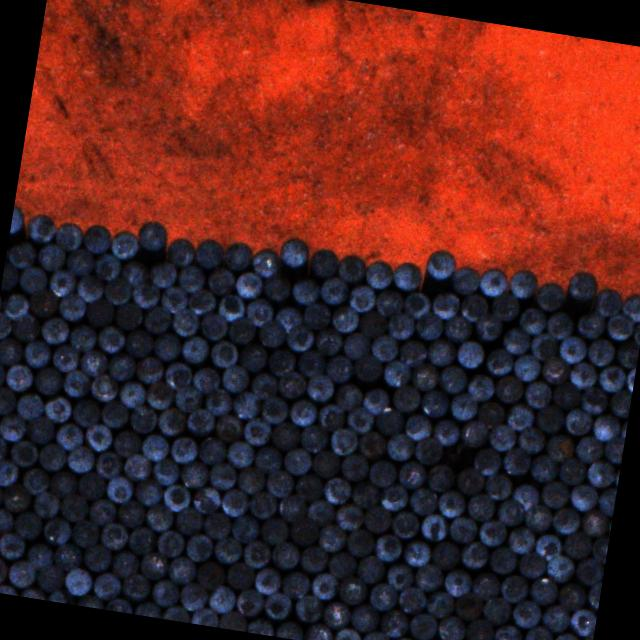tool: (191, 236, 224, 270), (479, 264, 512, 298), (164, 236, 197, 270), (592, 286, 625, 320), (136, 220, 170, 253), (391, 260, 424, 293), (424, 247, 456, 281), (252, 246, 284, 280), (534, 280, 566, 314), (26, 212, 60, 244), (566, 269, 598, 303), (278, 235, 310, 268), (337, 253, 369, 286), (82, 224, 114, 256), (222, 241, 254, 273), (364, 259, 396, 291), (458, 292, 490, 324), (508, 267, 540, 299), (290, 514, 322, 546), (109, 230, 141, 262), (408, 359, 439, 392), (308, 246, 339, 278), (350, 602, 381, 634), (337, 574, 368, 606), (306, 373, 338, 404), (17, 264, 48, 296), (172, 505, 204, 536), (451, 264, 482, 296), (193, 558, 224, 590), (145, 380, 176, 412), (5, 238, 36, 270), (316, 402, 347, 434), (174, 262, 206, 293), (1, 480, 32, 512), (550, 379, 582, 410), (456, 338, 487, 369), (318, 275, 349, 306), (205, 266, 236, 297), (557, 333, 588, 364), (437, 364, 468, 395), (557, 581, 588, 612), (373, 405, 404, 436), (443, 312, 474, 343), (426, 337, 457, 368), (155, 405, 186, 436), (447, 391, 478, 422), (494, 373, 525, 404), (227, 315, 258, 346), (366, 457, 397, 488), (418, 388, 449, 419), (357, 429, 388, 460), (597, 362, 628, 393), (535, 404, 566, 435), (592, 412, 623, 443), (472, 446, 503, 477), (505, 401, 536, 432), (510, 598, 540, 630), (240, 538, 270, 570), (40, 314, 70, 346), (270, 540, 300, 572), (320, 474, 350, 506), (36, 240, 66, 272), (499, 572, 529, 604), (432, 288, 462, 320), (150, 576, 180, 608), (322, 598, 352, 630), (176, 460, 208, 490), (42, 514, 72, 546), (54, 221, 84, 253), (584, 458, 616, 488), (190, 484, 222, 514), (346, 282, 376, 314), (33, 364, 63, 396), (452, 589, 482, 621), (518, 304, 548, 336), (282, 444, 312, 476), (574, 558, 606, 588), (316, 522, 346, 554), (362, 502, 392, 534), (362, 384, 392, 416), (282, 568, 312, 600), (216, 292, 246, 324), (70, 398, 102, 428), (288, 274, 320, 304), (540, 354, 570, 386), (0, 290, 30, 322), (168, 434, 198, 465), (178, 581, 208, 612), (184, 533, 214, 564), (373, 532, 403, 563), (204, 386, 234, 417), (264, 468, 294, 499), (166, 553, 196, 584), (436, 487, 466, 518), (529, 330, 560, 360), (25, 415, 55, 446), (378, 481, 408, 512), (138, 549, 168, 580), (242, 415, 272, 446), (64, 565, 94, 596), (179, 332, 209, 363), (161, 360, 192, 390), (470, 569, 500, 600), (480, 594, 510, 625), (95, 323, 125, 354), (287, 396, 318, 426), (308, 569, 338, 600), (46, 268, 77, 298), (384, 432, 414, 463), (120, 571, 150, 602), (456, 466, 486, 497), (36, 441, 66, 472), (160, 481, 190, 512), (143, 500, 173, 531), (246, 297, 276, 328), (128, 404, 158, 435), (478, 518, 509, 548), (4, 362, 34, 393), (171, 384, 202, 414), (344, 527, 374, 558), (230, 513, 260, 544), (234, 586, 264, 617), (314, 325, 344, 356), (89, 372, 119, 403), (195, 435, 225, 466), (50, 342, 80, 373), (397, 460, 427, 491), (170, 308, 200, 339), (406, 609, 436, 640), (561, 528, 591, 559), (396, 585, 426, 616), (466, 491, 496, 522), (424, 462, 454, 493), (277, 493, 308, 523), (65, 246, 95, 277), (66, 444, 96, 475), (585, 336, 615, 367), (100, 398, 130, 429), (568, 605, 598, 636), (152, 331, 182, 362), (220, 363, 250, 394), (234, 270, 264, 301), (522, 501, 552, 532), (236, 465, 266, 496), (112, 301, 142, 332), (61, 368, 91, 399), (51, 542, 81, 573), (487, 422, 518, 452), (198, 312, 228, 343), (442, 567, 472, 598), (297, 424, 327, 455), (160, 283, 190, 314), (123, 328, 153, 359), (8, 437, 38, 468), (382, 357, 412, 388), (69, 323, 99, 354), (218, 486, 248, 517), (412, 310, 443, 340), (232, 390, 262, 421), (140, 430, 170, 461), (428, 540, 458, 571), (142, 304, 172, 335), (574, 434, 604, 465), (326, 549, 357, 579), (74, 471, 104, 502), (546, 310, 576, 341), (296, 348, 327, 378), (580, 507, 611, 537), (512, 351, 542, 382), (326, 352, 356, 383), (544, 553, 574, 584), (484, 347, 514, 378), (94, 251, 124, 282), (28, 287, 58, 318), (84, 297, 114, 328), (568, 360, 599, 390), (354, 352, 385, 382), (190, 366, 221, 396), (270, 422, 301, 452), (258, 318, 288, 349), (578, 385, 608, 416), (276, 368, 306, 399), (576, 308, 606, 339), (259, 395, 289, 426), (266, 346, 296, 377), (213, 412, 244, 442), (502, 445, 532, 476), (528, 452, 558, 483), (544, 432, 574, 463), (475, 400, 506, 430), (474, 311, 504, 342), (356, 552, 385, 584), (98, 522, 128, 552), (226, 438, 256, 468), (414, 436, 444, 466), (385, 311, 415, 341), (460, 540, 490, 570), (226, 559, 256, 589), (391, 384, 421, 414), (206, 584, 236, 614), (488, 546, 518, 576), (368, 333, 398, 363), (390, 510, 420, 540), (448, 514, 478, 544), (10, 312, 40, 342), (30, 490, 60, 520), (79, 346, 109, 376), (285, 322, 315, 352), (82, 422, 112, 452), (412, 562, 442, 592), (127, 526, 157, 556), (68, 518, 98, 548), (552, 504, 582, 534), (408, 486, 438, 516), (104, 473, 134, 503), (529, 576, 559, 606), (212, 536, 242, 566), (59, 492, 89, 522), (246, 488, 276, 518), (263, 590, 293, 620), (425, 590, 455, 620), (568, 482, 598, 512), (200, 510, 230, 540), (115, 498, 145, 528), (334, 502, 364, 532), (54, 420, 84, 450), (310, 448, 340, 478), (340, 332, 370, 362), (124, 452, 154, 482), (82, 542, 112, 572), (378, 608, 408, 638), (328, 426, 358, 456), (41, 395, 71, 425), (258, 516, 288, 546), (7, 558, 37, 588), (484, 472, 514, 502), (459, 417, 489, 447), (74, 275, 104, 305), (540, 480, 570, 510), (306, 498, 336, 528), (88, 496, 118, 526), (402, 288, 432, 318), (540, 604, 570, 634), (92, 570, 122, 600), (358, 310, 388, 340), (103, 276, 133, 306), (301, 302, 331, 332), (503, 325, 533, 355), (14, 509, 44, 539), (135, 355, 165, 385), (133, 478, 163, 508), (558, 457, 588, 487), (404, 413, 434, 443), (606, 312, 636, 342), (300, 542, 330, 572), (563, 408, 593, 438), (252, 444, 282, 474), (110, 550, 140, 580), (330, 304, 360, 334), (340, 452, 370, 482), (334, 382, 364, 412), (466, 372, 496, 402), (344, 404, 374, 434), (47, 468, 77, 498), (147, 258, 177, 288), (402, 538, 432, 568), (490, 292, 520, 322), (112, 428, 142, 458), (522, 378, 552, 408), (515, 426, 545, 456), (14, 392, 44, 422), (36, 562, 66, 592), (210, 338, 240, 368), (240, 342, 270, 372), (375, 286, 405, 316), (347, 480, 377, 510), (430, 416, 460, 446), (398, 338, 428, 368), (512, 482, 542, 512), (292, 472, 322, 502), (186, 287, 216, 317), (186, 406, 216, 436), (274, 303, 304, 333), (296, 592, 324, 624), (208, 462, 237, 492), (21, 338, 50, 368), (518, 550, 547, 580), (369, 581, 398, 611), (107, 352, 136, 382), (150, 458, 179, 488), (95, 450, 124, 480), (419, 512, 448, 542), (25, 540, 54, 570), (250, 371, 279, 401), (496, 496, 525, 526), (263, 273, 293, 302), (118, 378, 146, 409), (254, 566, 282, 596), (435, 612, 465, 640), (156, 528, 184, 558), (58, 292, 86, 322), (508, 526, 536, 556), (22, 467, 50, 497), (130, 280, 160, 308), (386, 562, 414, 592), (534, 532, 562, 562), (118, 258, 148, 286), (0, 411, 27, 442), (0, 531, 26, 561), (608, 387, 633, 418), (0, 335, 24, 366), (615, 338, 640, 367), (464, 616, 494, 640), (218, 608, 248, 632), (603, 434, 625, 464), (190, 606, 220, 627), (598, 485, 618, 516), (275, 619, 304, 640), (621, 291, 640, 323), (0, 458, 20, 488), (590, 534, 610, 564), (303, 620, 332, 640), (10, 204, 27, 237), (162, 603, 190, 623), (0, 386, 18, 417), (1, 262, 19, 292), (248, 617, 276, 636), (525, 623, 555, 640), (492, 623, 522, 640), (134, 600, 162, 618), (586, 580, 602, 610), (106, 597, 134, 614), (48, 588, 76, 605), (78, 592, 104, 610), (332, 626, 362, 640), (0, 506, 14, 536), (0, 311, 13, 341), (19, 586, 46, 600), (624, 366, 636, 394), (550, 630, 581, 640), (362, 630, 392, 640), (618, 416, 628, 444), (0, 433, 9, 463), (0, 554, 8, 585), (0, 582, 18, 595), (632, 318, 640, 345), (390, 635, 420, 640), (0, 359, 5, 389), (579, 631, 594, 640)
